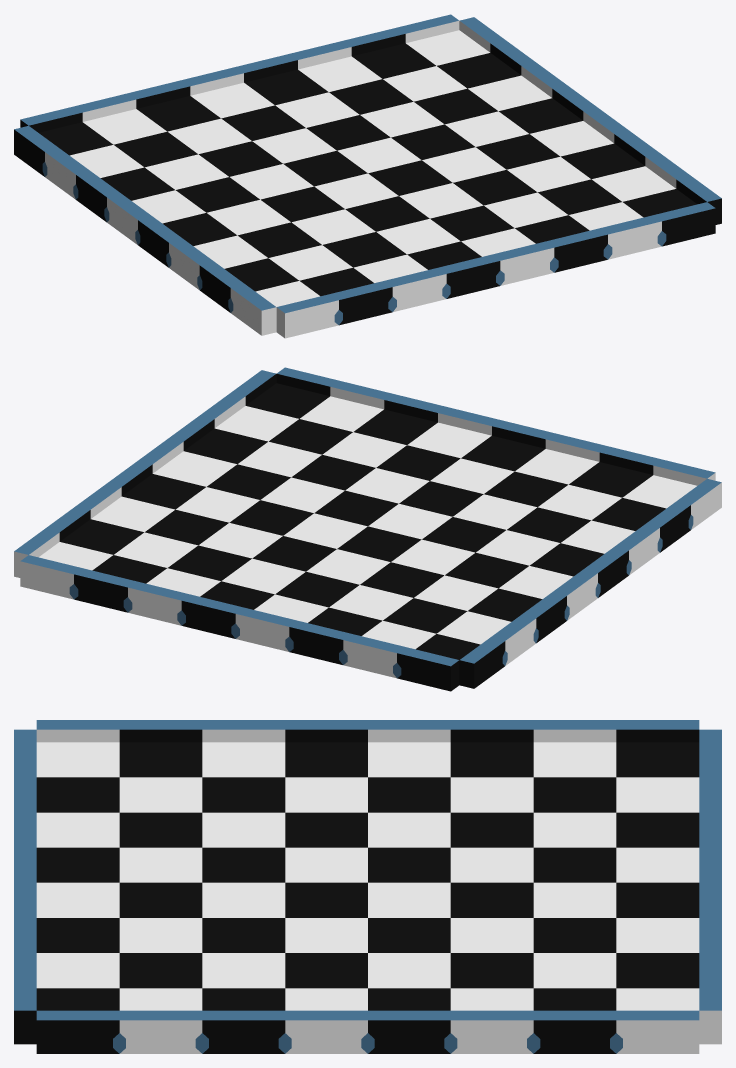
Rendered from board.gltf.
3 renders of one model, top to bottom at view 1: azimuth 30°, elevation 25°; view 2: azimuth 150°, elevation 25°; view 3: azimuth 270°, elevation 25°, orthographic. The views are drawn at different scales.
Parts seen in each view (by area): view 1: Cube; view 2: Cube; view 3: Cube.
Part boxes in pixels (x1=…): Cube: x1=14, y1=14, x2=721, y2=338; Cube: x1=14, y1=367, x2=721, y2=691; Cube: x1=14, y1=720, x2=721, y2=1053.
Bounding box in the file's own units: 25.78 × 1.35 × 25.7.
